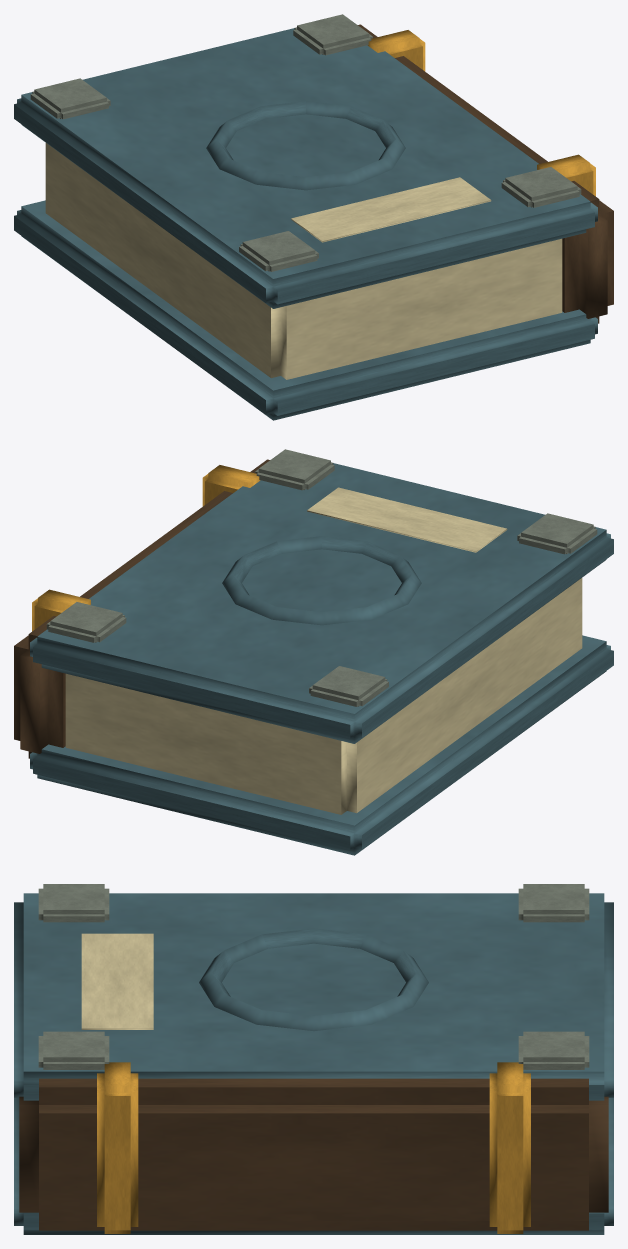
The model's file is item-HollowCoinGrimoire.fbx.
3 views of the same model, one above another, from view 1: azimuth 30°, elevation 25°; view 2: azimuth 150°, elevation 25°; view 3: azimuth 270°, elevation 25° (orthographic). The views are drawn at different scales.
Visible parts, largest first — view 1: item-HollowCoinGrimoire__Geometry; view 2: item-HollowCoinGrimoire__Geometry; view 3: item-HollowCoinGrimoire__Geometry.
Part boxes in pixels (x1,y1,x2,y2): item-HollowCoinGrimoire__Geometry: [14, 14, 613, 420]; item-HollowCoinGrimoire__Geometry: [14, 449, 613, 855]; item-HollowCoinGrimoire__Geometry: [14, 884, 613, 1234].
Size of the model in its own units: 0.445 by 0.177 by 0.55.
Materials: 1 (1 with a texture image).
